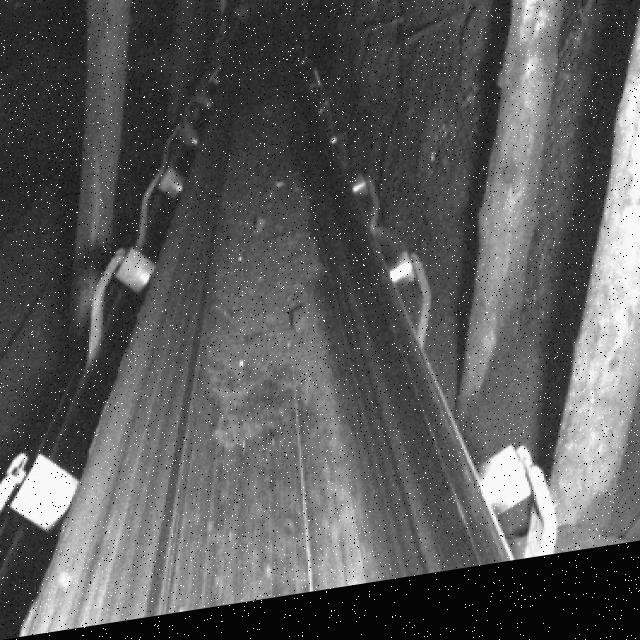large_sized_coal: (291, 313, 306, 344), (253, 226, 266, 246)
